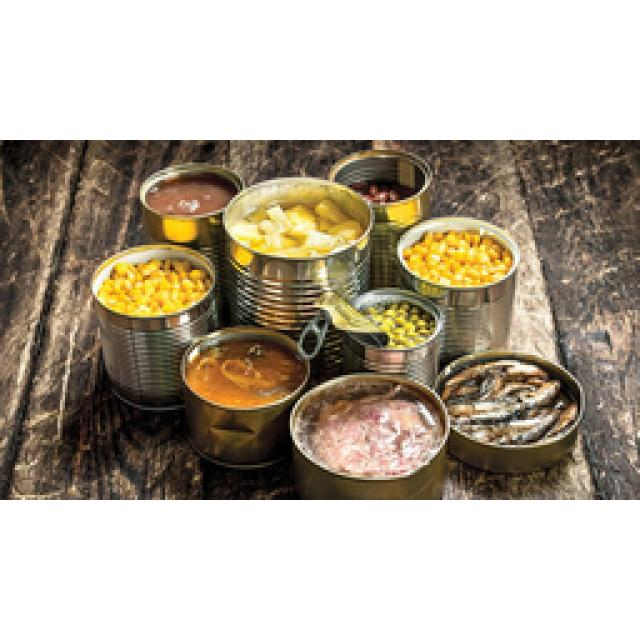alumunium: (143, 201, 373, 344), (181, 379, 446, 500), (368, 176, 522, 370), (89, 284, 221, 410)
